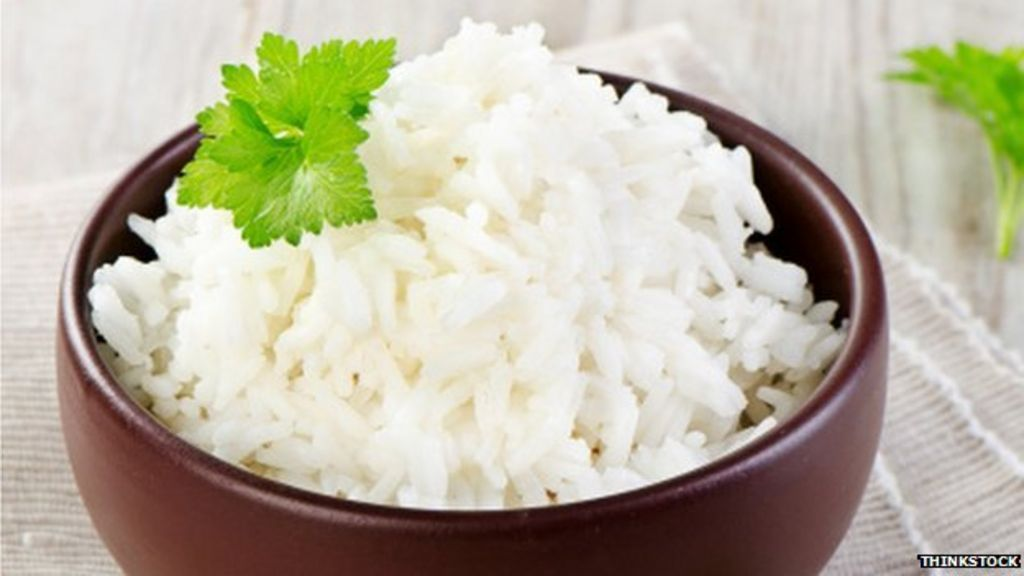rice: (179, 23, 754, 455)
